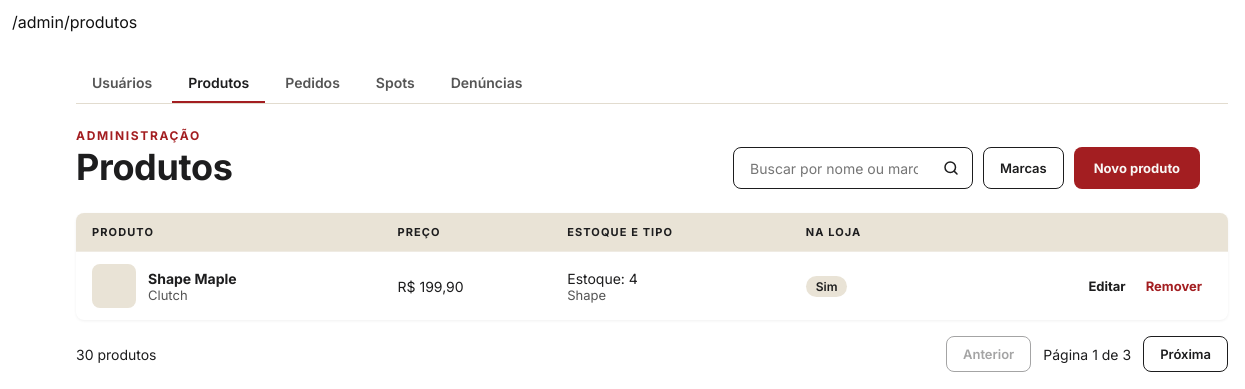
Test: Painel: lista de produtos › anda entre as páginas
Check: the text "Página 1 de 3" is shown, box left=1043, top=346, right=1131, bottom=362
Check: the button "Anterior" is disabled, box left=946, top=336, right=1031, bottom=372
Click the button "Próxima" at x=1186, y=354, box left=1143, top=336, right=1228, bottom=372
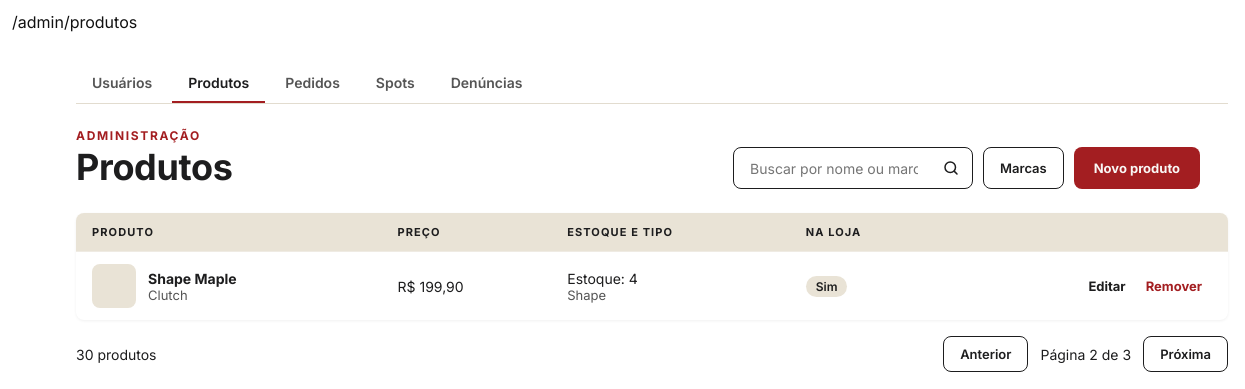
Check: the text "Página 2 de 3" is shown, box left=1040, top=346, right=1131, bottom=362
